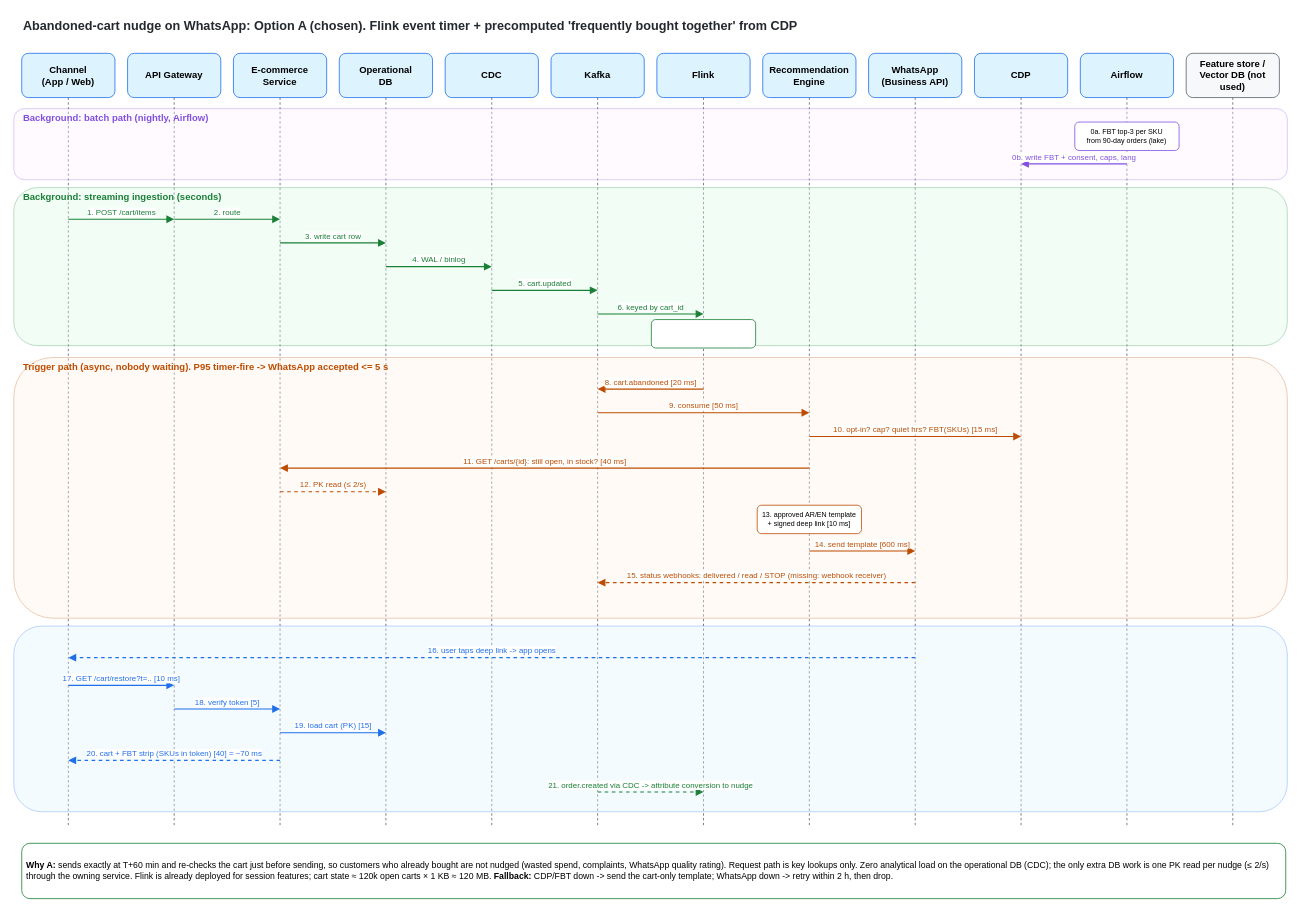
Image size: 1301x912. Some labels were removed from this diagram. The centre of each missing label's shape, as x and y in pixels:
7. (re)arm 60-min timer; order event cancels it: pixel 703 333
Real-time request path (user waiting). P95 <= 300 ms server side: pixel 650 718
